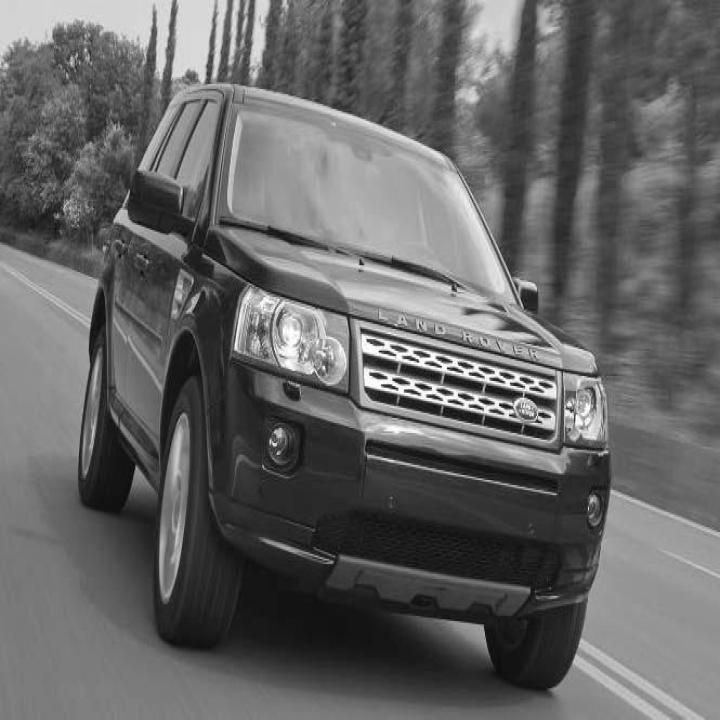car: (76, 80, 612, 690)
